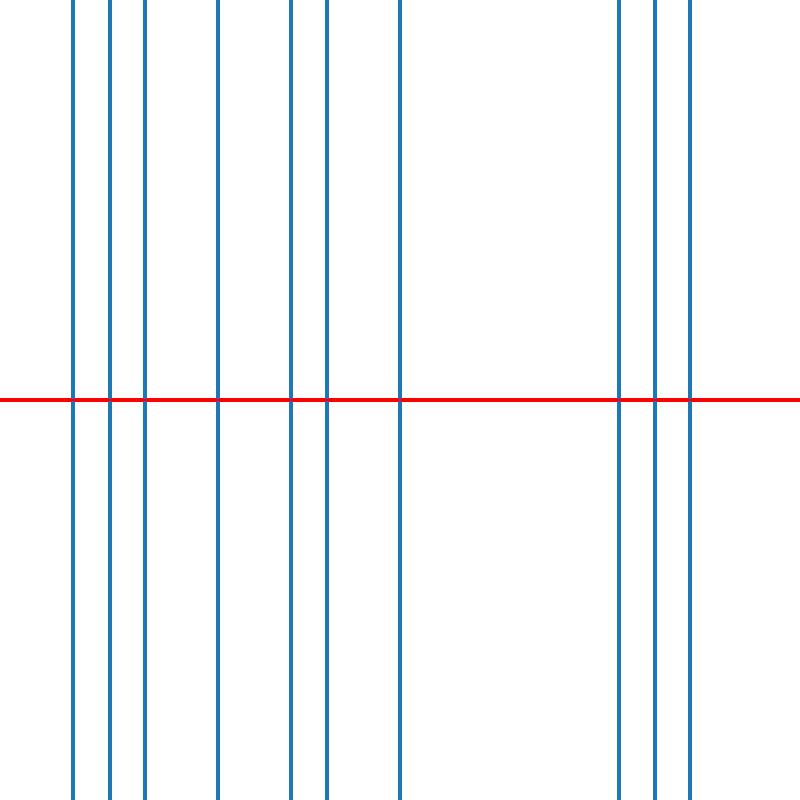root: (141, 396, 149, 404), (650, 396, 658, 404), (105, 396, 112, 404), (614, 396, 621, 404), (687, 396, 694, 404), (396, 396, 403, 404), (323, 396, 330, 404), (69, 396, 76, 404), (214, 396, 221, 404), (287, 396, 294, 404)
